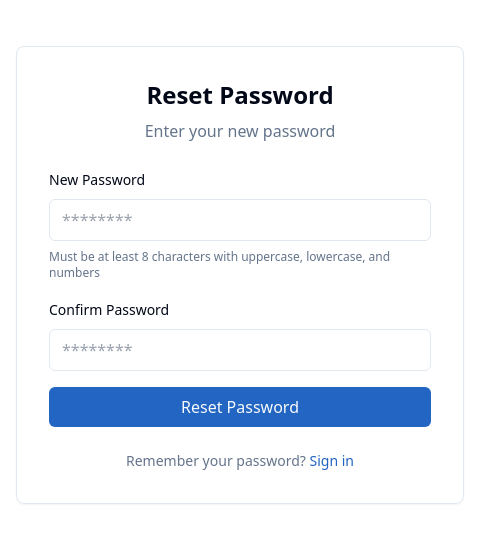
Test: ResetPassword Page › should display error on reset failure
Type "NewPassword123" into the password field labelled "New Password" at point(240, 220), box [49,199,431,241]
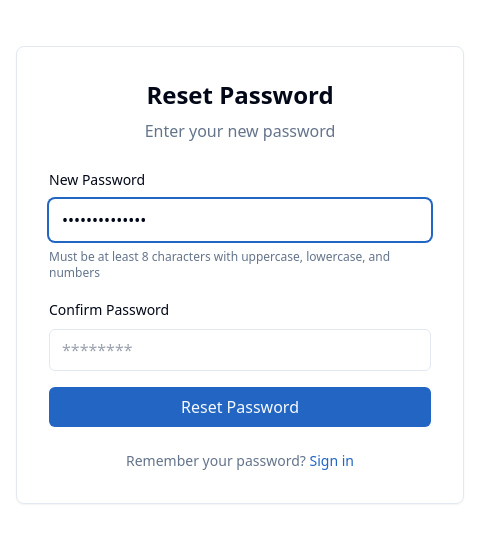
Type "NewPassword123" into the password field labelled "Confirm Password" at point(240, 350), box [49,329,431,371]
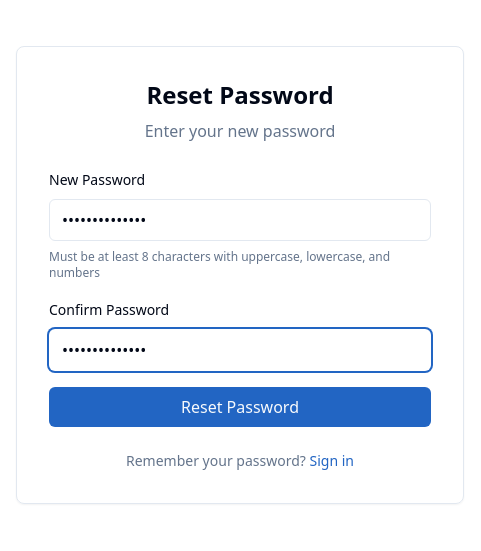
Click the button "Reset Password" at point(240, 407), box [49,387,431,427]
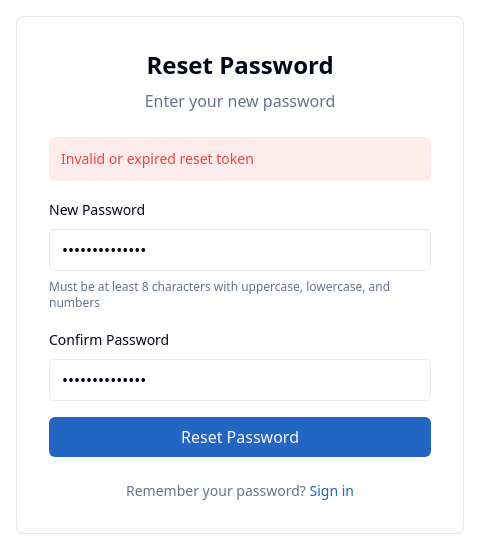
Now the text "Invalid or expired reset token" is shown, box [49,137,431,181]
